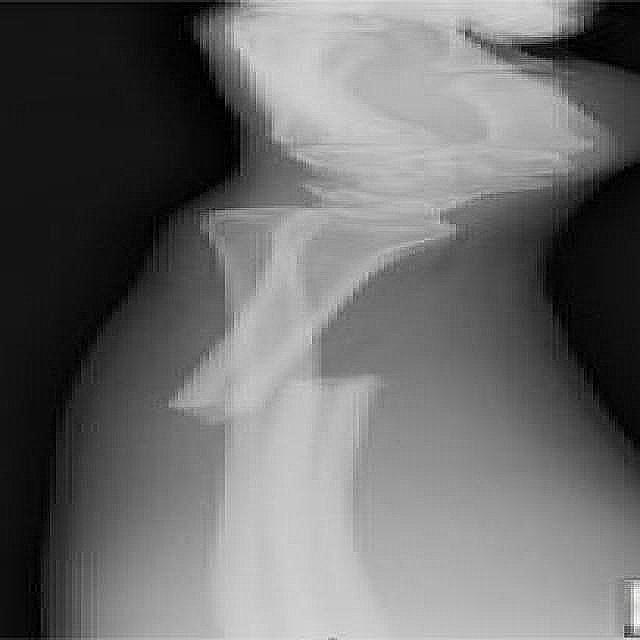bone: (159, 345, 388, 442)
